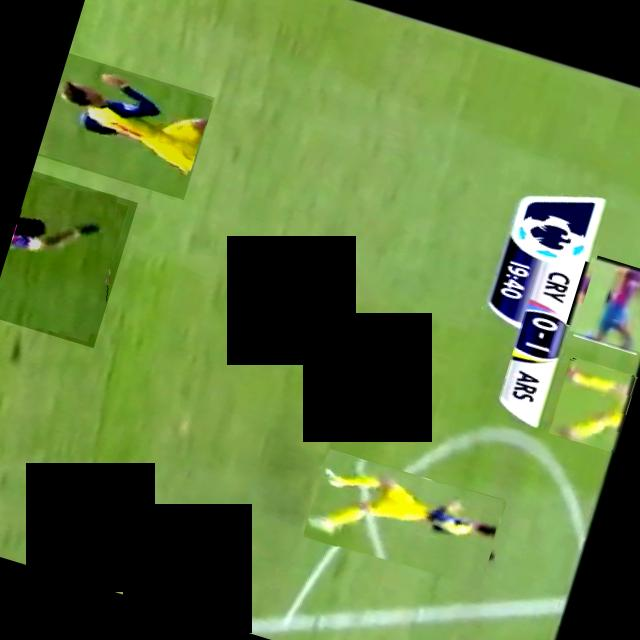soccer-player: (302, 446, 506, 589), (35, 52, 214, 200), (0, 170, 136, 348), (548, 356, 638, 453), (568, 257, 640, 352)
